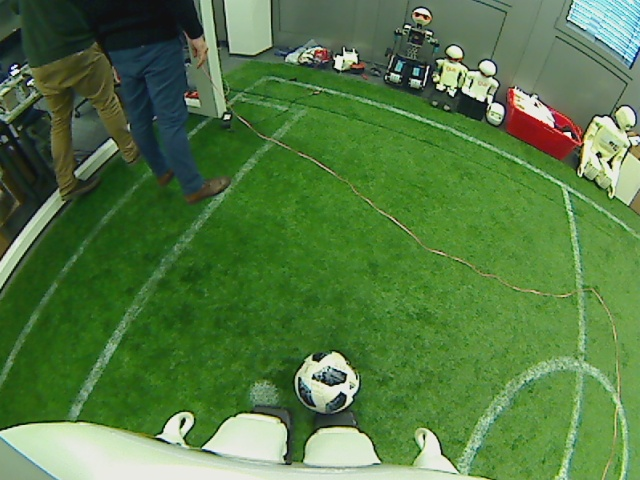ball: (290, 349, 360, 416)
